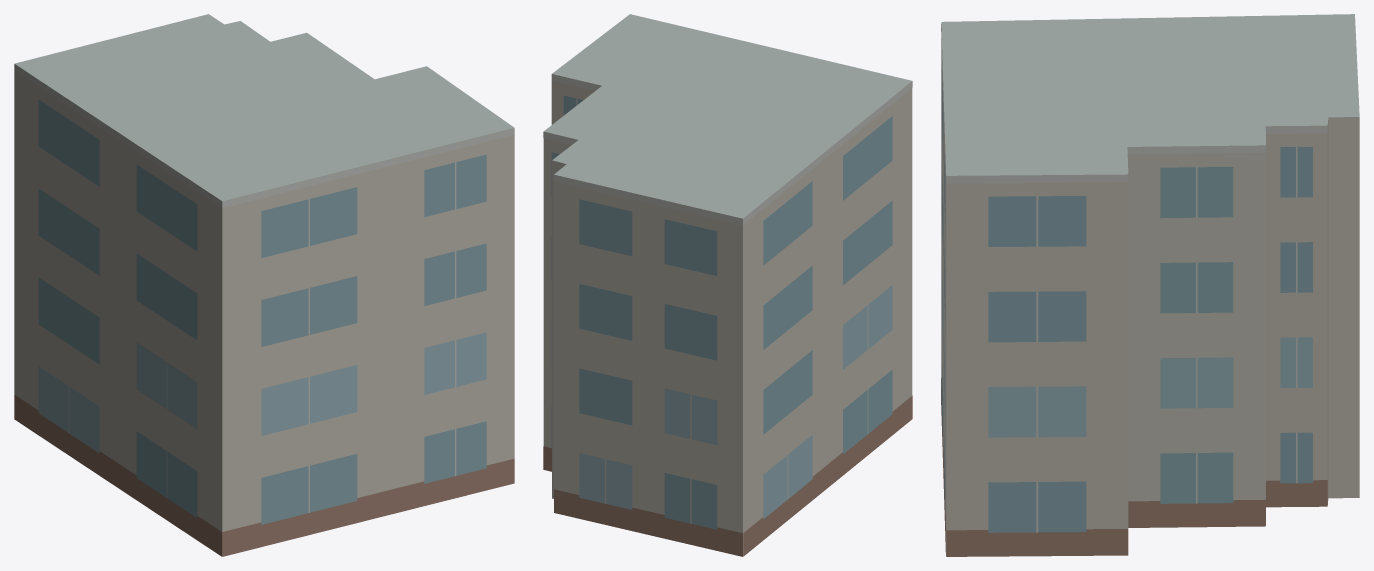
The model's file is survey-upis-32653805.glb.
3 views of the same model, side by side, from view 1: azimuth 30°, elevation 25°; view 2: azimuth 150°, elevation 25°; view 3: azimuth 270°, elevation 25° (orthographic). The views are drawn at different scales.
Visible parts, largest first — view 1: survey-upis-32653805.tmp; view 2: survey-upis-32653805.tmp; view 3: survey-upis-32653805.tmp.
Part boxes in pixels (left/top/right/bottom): survey-upis-32653805.tmp: left=14, top=14, right=514, bottom=556; survey-upis-32653805.tmp: left=543, top=14, right=912, bottom=556; survey-upis-32653805.tmp: left=941, top=14, right=1359, bottom=556.
Size of the model in its own units: 11.18 by 12.26 by 12.21.
